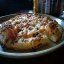pizza: (1, 10, 60, 52)
